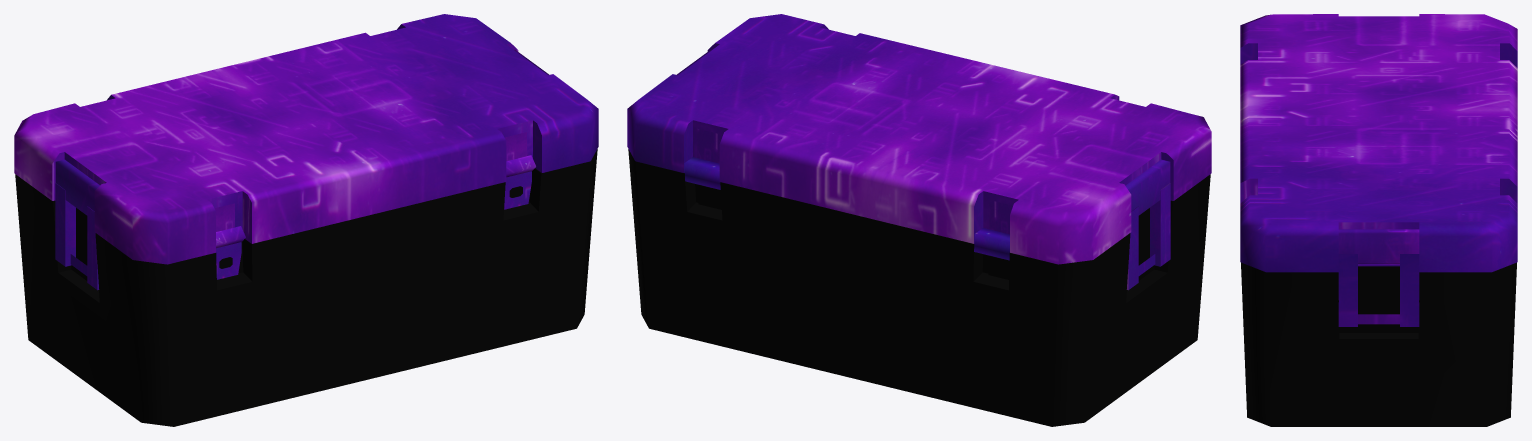
File: chest.glb
3 renders of one model, left to right at view 1: azimuth 30°, elevation 25°; view 2: azimuth 150°, elevation 25°; view 3: azimuth 270°, elevation 25°, orthographic. The views are drawn at different scales.
Parts seen in each view (by area): view 1: IO_Faction_Chest_LOD0.mo.002; view 2: IO_Faction_Chest_LOD0.mo.002; view 3: IO_Faction_Chest_LOD0.mo.002.
Boxes of the visible parts, left/top/right/bottom form: IO_Faction_Chest_LOD0.mo.002: left=14, top=14, right=598, bottom=426; IO_Faction_Chest_LOD0.mo.002: left=627, top=14, right=1211, bottom=426; IO_Faction_Chest_LOD0.mo.002: left=1240, top=14, right=1517, bottom=426.
Size of the model in its own units: 1.79 by 0.7832 by 0.9648.
Materials: 1 (1 with a texture image).
